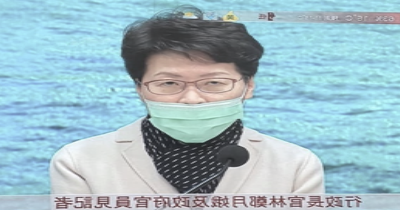mask_weared_incorrect: (139, 69, 244, 144)
